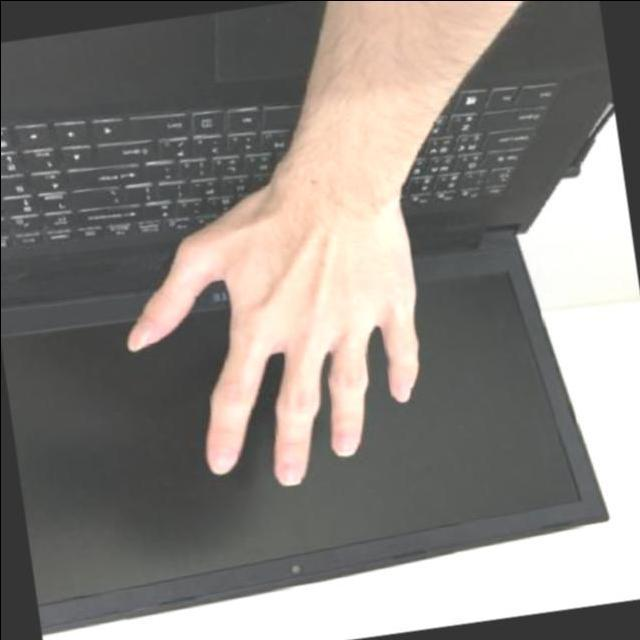hand: (95, 149, 453, 519)
